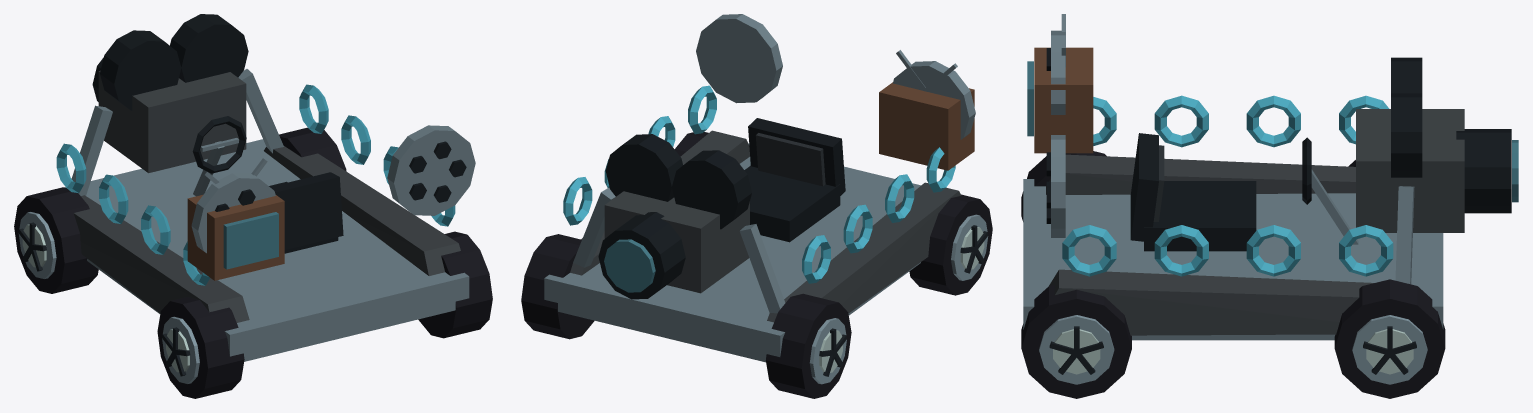
Rendered from kart.glb.
3 renders of one model, left to right at view 1: azimuth 30°, elevation 25°; view 2: azimuth 150°, elevation 25°; view 3: azimuth 270°, elevation 25°, orthographic. The views are drawn at different scales.
Parts seen in each view (by area): view 1: identity-camera-rig-camera-dolly-and-lens, identity-camera-rig-motif-film, wheel-rear-left, identity-camera-rig-motif-television, wheel-front-left, identity-camera-rig-driver-cockpit, identity-camera-rig-motif-water, wheel-rear-right, wheel-front-right; view 2: identity-camera-rig-camera-dolly-and-lens, identity-camera-rig-driver-cockpit, identity-camera-rig-motif-film, wheel-front-left, identity-camera-rig-motif-television, identity-camera-rig-motif-water, wheel-rear-left, wheel-front-right; view 3: identity-camera-rig-camera-dolly-and-lens, identity-camera-rig-motif-water, identity-camera-rig-driver-cockpit, wheel-front-right, wheel-rear-right, identity-camera-rig-motif-television, identity-camera-rig-motif-film, wheel-rear-left.
Part boxes in pixels (x1,y1,x2,y2): identity-camera-rig-camera-dolly-and-lens: [65, 14, 469, 361]; identity-camera-rig-motif-film: [191, 125, 475, 253]; wheel-rear-left: [157, 297, 244, 398]; identity-camera-rig-motif-television: [187, 158, 284, 280]; wheel-front-left: [14, 187, 98, 293]; identity-camera-rig-driver-cockpit: [192, 116, 343, 253]; identity-camera-rig-motif-water: [56, 84, 455, 285]; wheel-rear-right: [418, 231, 492, 338]; wheel-front-right: [279, 127, 346, 171]; identity-camera-rig-camera-dolly-and-lens: [544, 130, 961, 362]; identity-camera-rig-driver-cockpit: [744, 118, 845, 242]; identity-camera-rig-motif-film: [696, 14, 975, 139]; wheel-front-left: [765, 293, 851, 398]; identity-camera-rig-motif-television: [879, 50, 974, 170]; identity-camera-rig-motif-water: [563, 85, 955, 283]; wheel-rear-left: [909, 194, 992, 295]; wheel-front-right: [521, 234, 594, 339]; identity-camera-rig-camera-dolly-and-lens: [1023, 57, 1518, 340]; identity-camera-rig-motif-water: [1062, 95, 1393, 276]; identity-camera-rig-driver-cockpit: [1130, 133, 1358, 251]; wheel-front-right: [1334, 279, 1445, 398]; wheel-rear-right: [1021, 284, 1131, 398]; identity-camera-rig-motif-television: [1027, 14, 1093, 153]; identity-camera-rig-motif-film: [1046, 30, 1065, 237]; wheel-rear-left: [1021, 151, 1106, 221].
Bounding box in the file's own units: 2.07 × 1.46 × 2.7.
